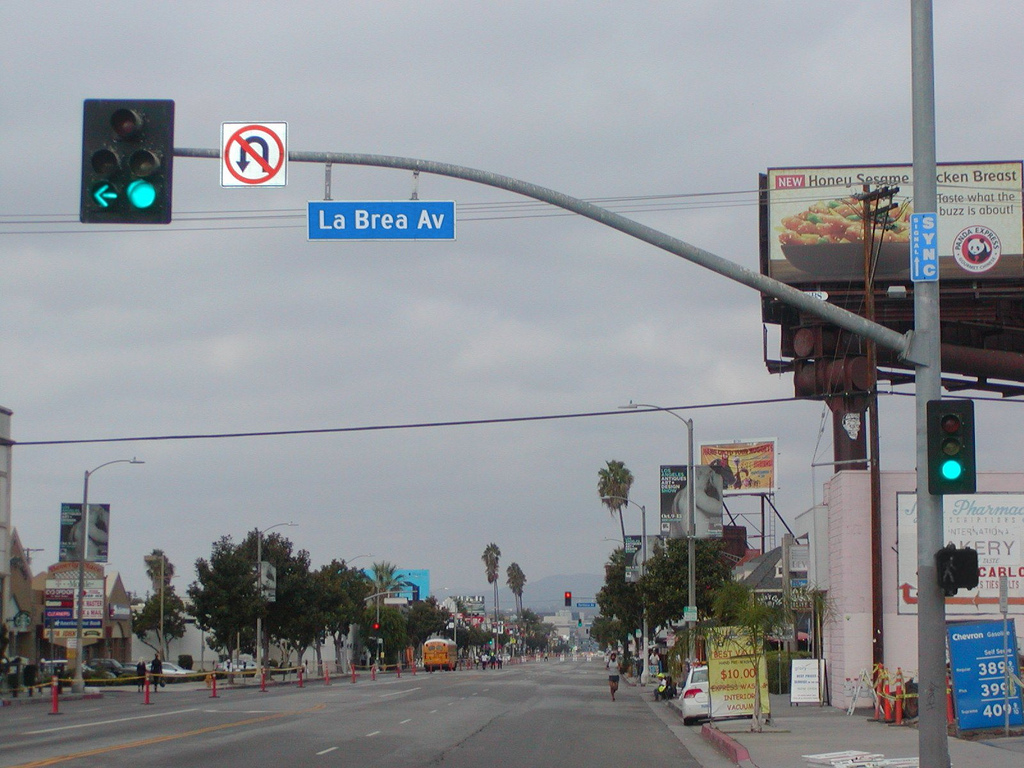traffic_light: (88, 104, 164, 215), (925, 398, 978, 496)
